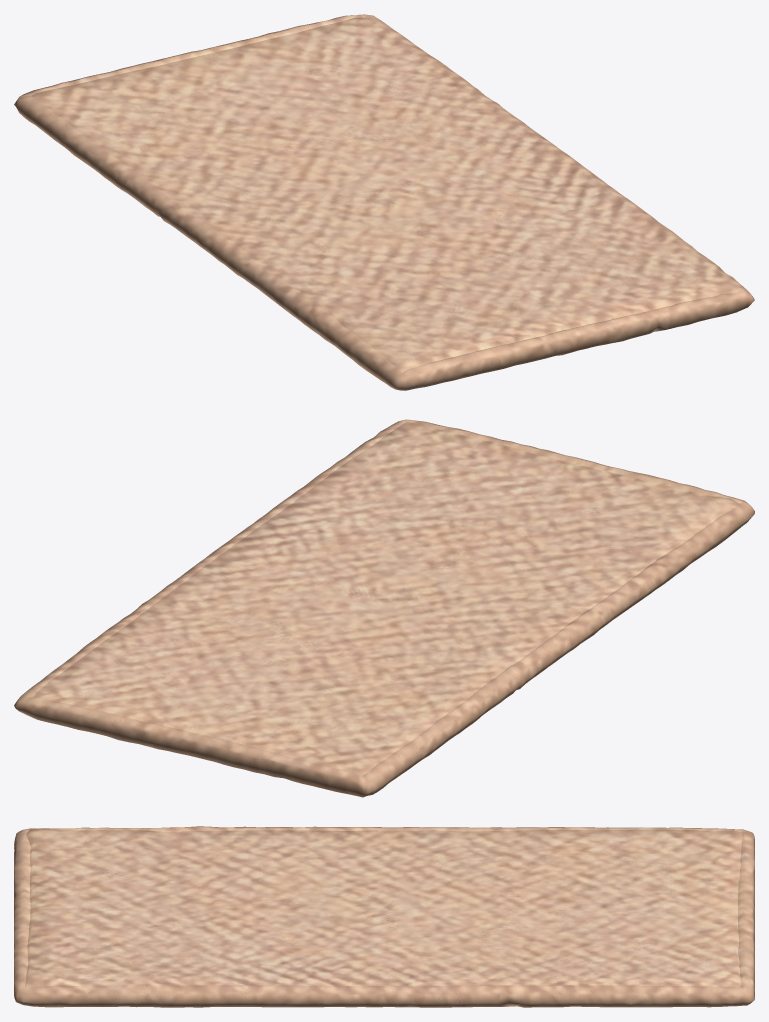
Rendered from fluffy_rug.glb.
The picture shows the model from 3 angles, top to bottom: view 1: azimuth 30°, elevation 25°; view 2: azimuth 150°, elevation 25°; view 3: azimuth 270°, elevation 25°; orthographic projection. The views are drawn at different scales.
Visible parts, largest first — view 1: geometry_0; view 2: geometry_0; view 3: geometry_0.
Boxes of the visible parts, x1,y1,x2,y2 form: geometry_0: (14,14,754,390); geometry_0: (14,419,754,797); geometry_0: (14,826,754,1007).
Bounding box in the file's own units: 0.5417 × 0.0341 × 1.
1 material, 1 textured.
